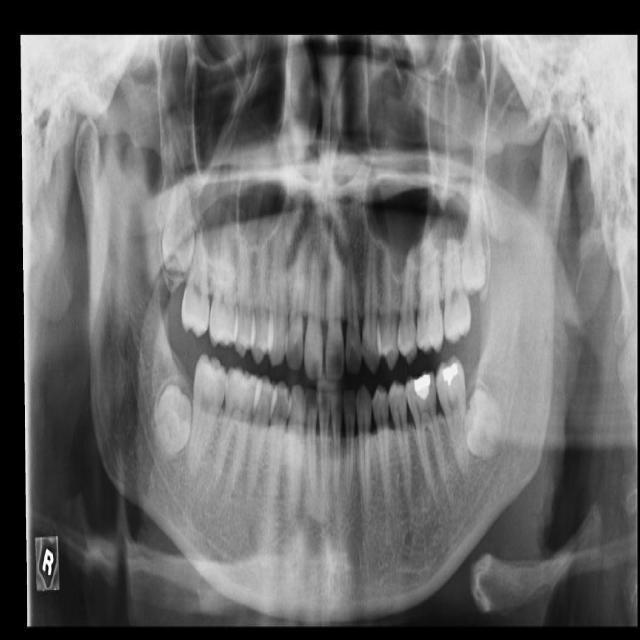Filling: (412, 372, 432, 401), (440, 362, 458, 384)
impacted tooth: (159, 184, 191, 279), (461, 186, 486, 296)
